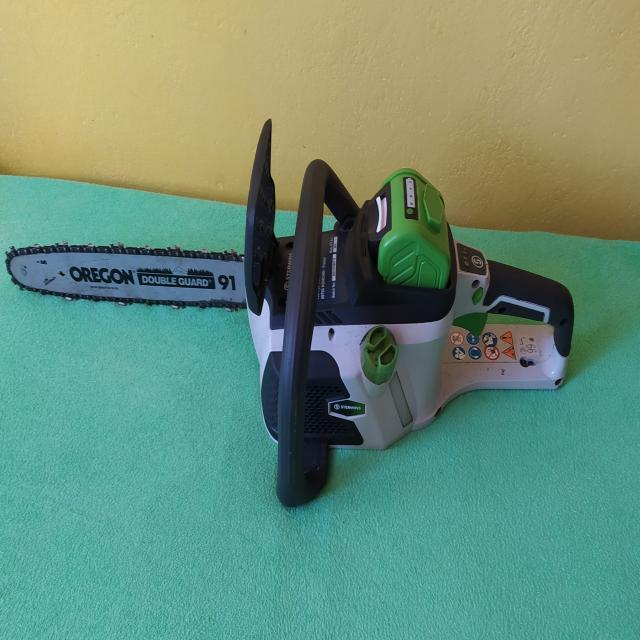Chainsaw: (3, 116, 578, 515)
